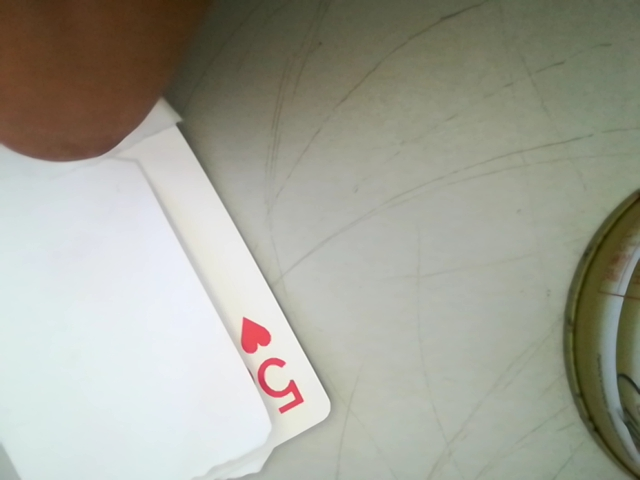hx 5: (217, 302, 307, 427)
